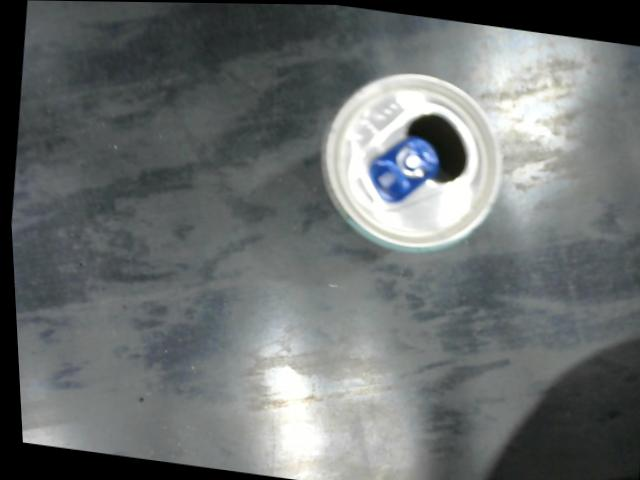can: (303, 59, 517, 266)
